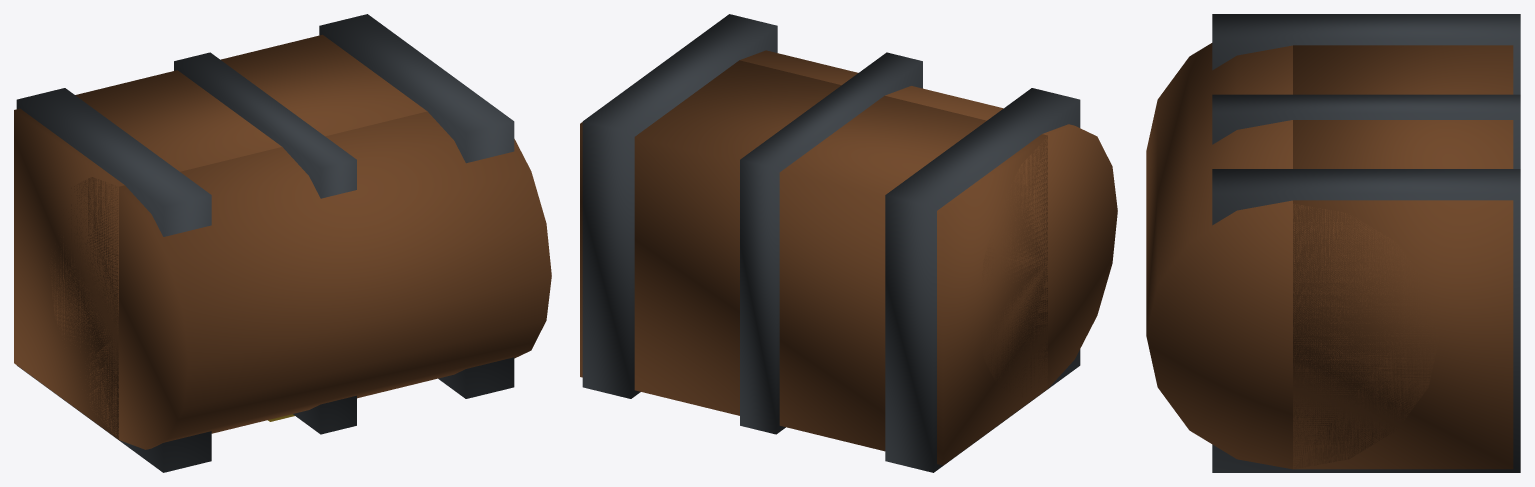
Rendered from dungeon_chest.obj.
The picture shows the model from 3 angles, left to right: view 1: azimuth 30°, elevation 25°; view 2: azimuth 150°, elevation 25°; view 3: azimuth 270°, elevation 25°; orthographic projection. The views are drawn at different scales.
Visible parts, largest first — view 1: dungeon_chest; view 2: dungeon_chest; view 3: dungeon_chest.
Boxes of the visible parts, left/top/right/bottom form: dungeon_chest: left=14, top=14, right=551, bottom=472; dungeon_chest: left=580, top=14, right=1117, bottom=472; dungeon_chest: left=1146, top=14, right=1520, bottom=472.
Bounding box in the file's own units: 0.6 × 0.44 × 0.51.
